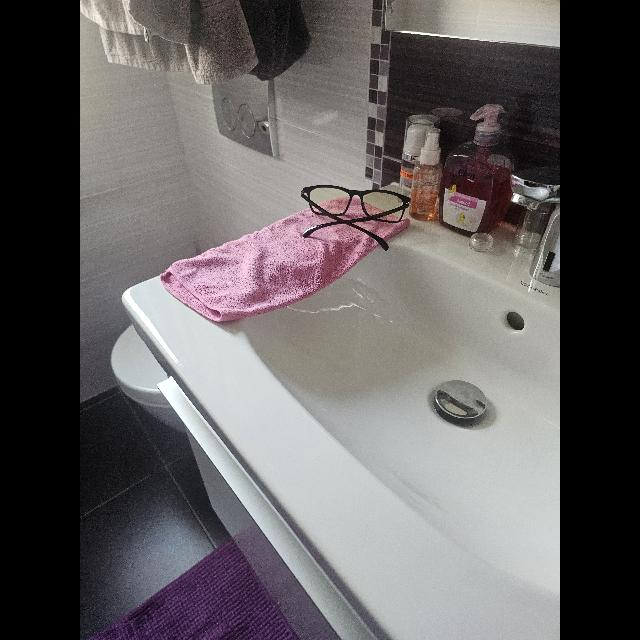glasses: (301, 184, 411, 252)
